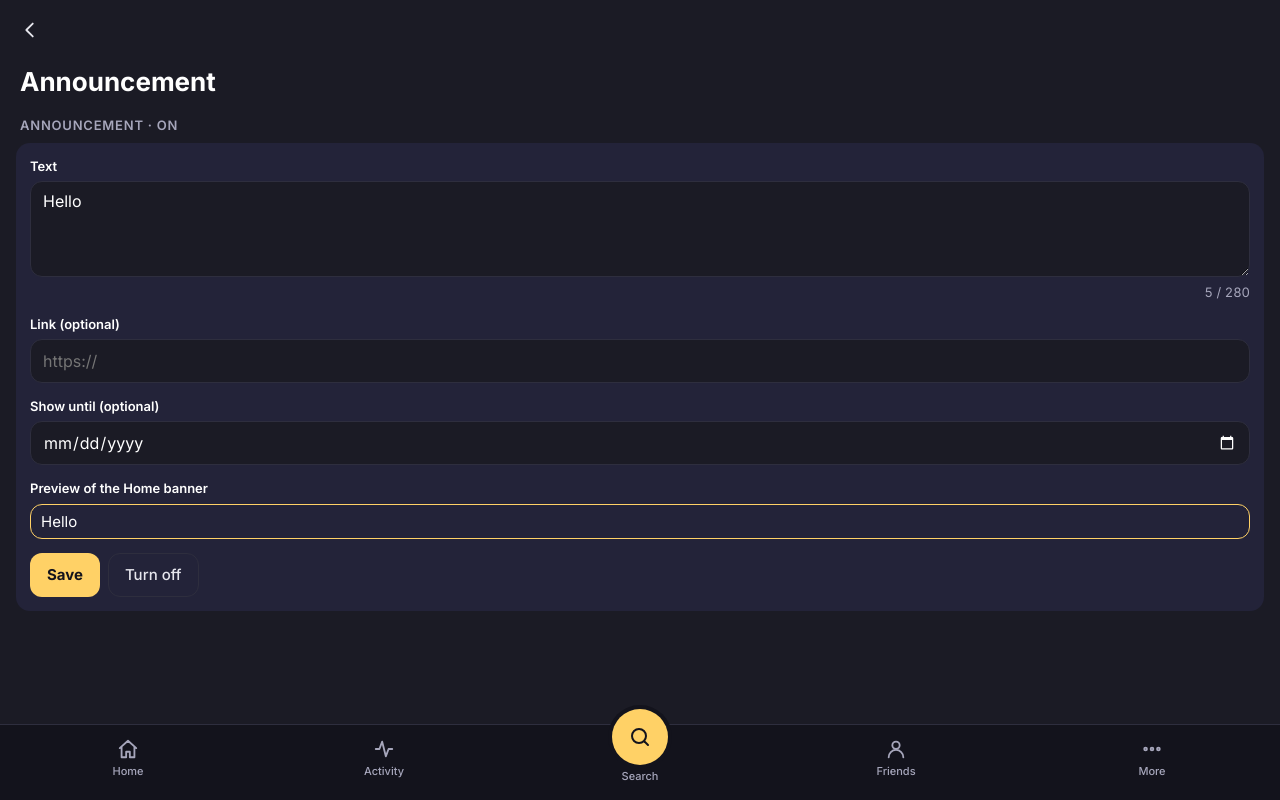
Announcement (AD3) › Turn off removes it
The width and height of the screenshot is (1280, 800).
Expected: the text box labelled "Text" holds "Hello", [30,181,1250,277]
Click the button "Turn off" at (153, 574), box [108,552,198,596]
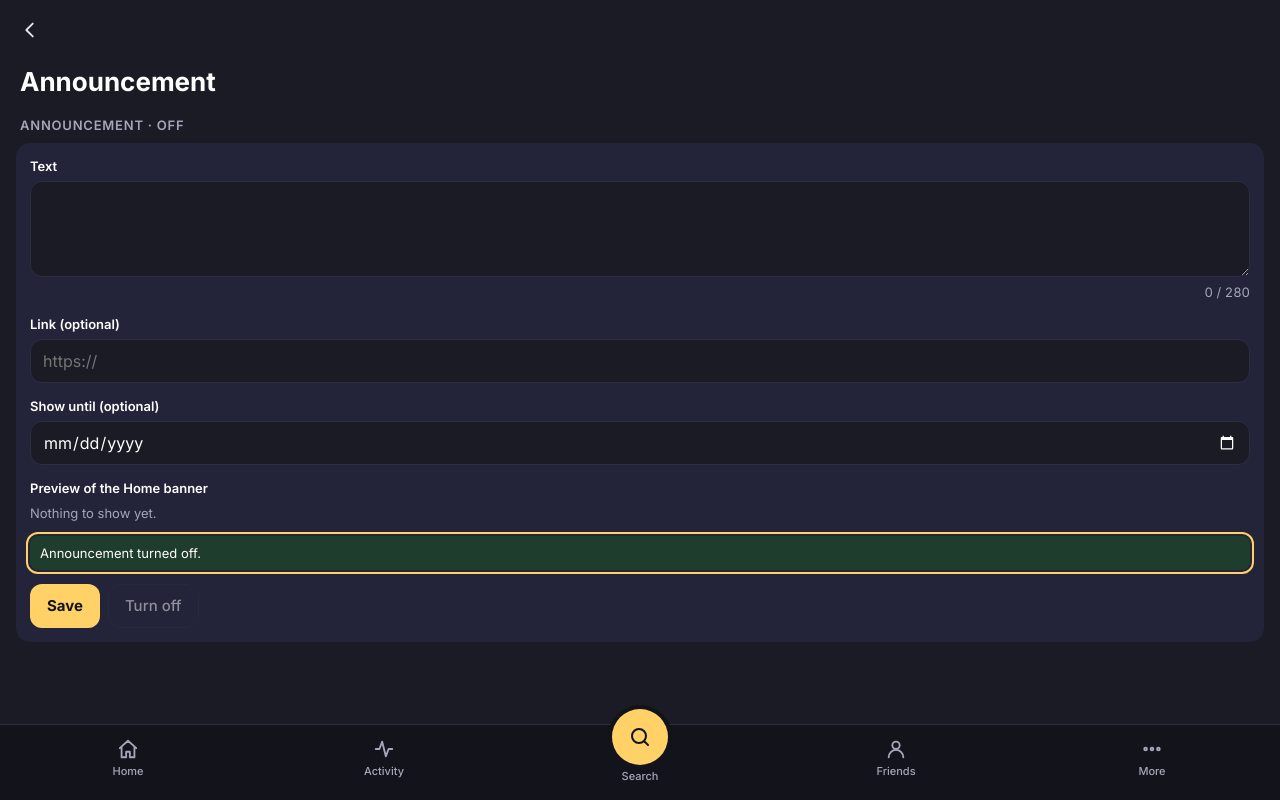
Now the text "Announcement turned off." is shown, box [30,536,1250,570]
Now the text box labelled "Text" is empty, box [30,181,1250,277]
